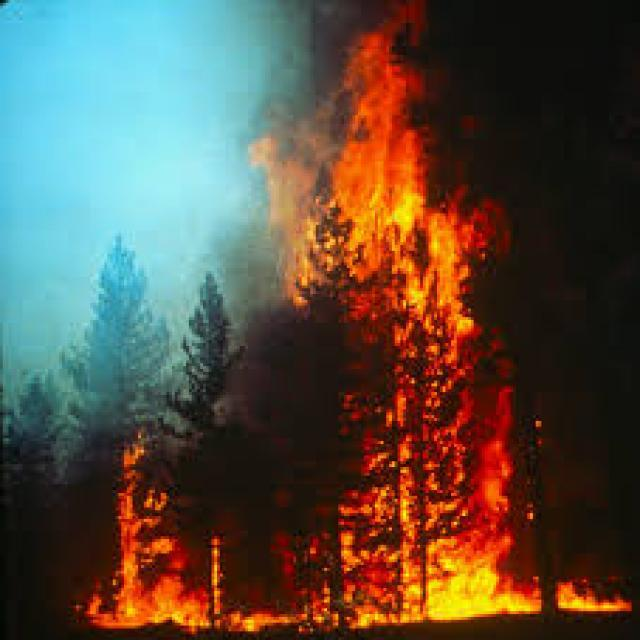Fire: (268, 32, 478, 332), (276, 472, 630, 618), (92, 440, 218, 634), (348, 338, 511, 470)
Smoke: (515, 5, 634, 345)
